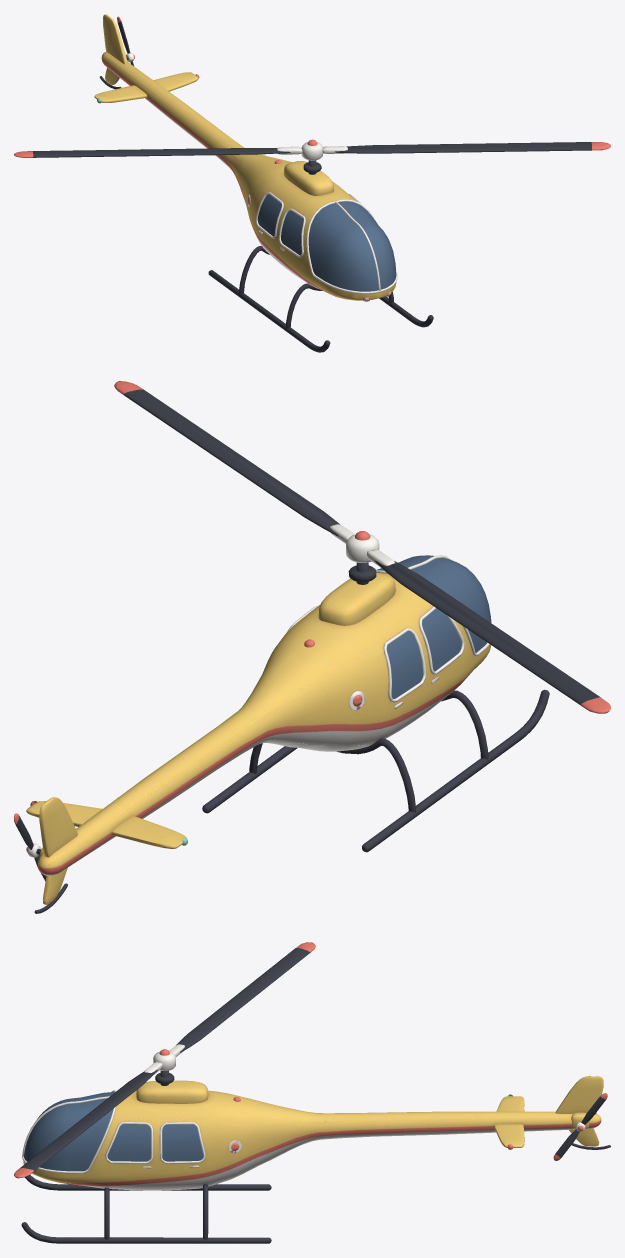
The model's file is helicoptero.glb.
3 views of the same model, one above another, from view 1: azimuth 30°, elevation 25°; view 2: azimuth 150°, elevation 25°; view 3: azimuth 270°, elevation 25° (orthographic). The views are drawn at different scales.
Parts seen in each view (by area): view 1: helicopter_beacon; view 2: helicopter_beacon; view 3: helicopter_beacon.
Part boxes in pixels (<box>): helicopter_beacon: <box>14,14,610,352</box>; helicopter_beacon: <box>14,381,610,913</box>; helicopter_beacon: <box>14,942,610,1243</box>.
Bounding box in the file's own units: 8.85 × 2.93 × 9.5.
Materials: 13 (1 with a texture image).
